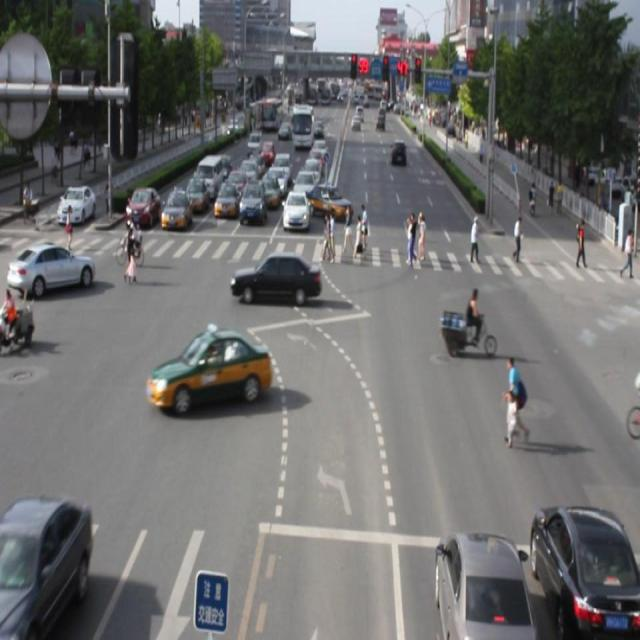car: (523, 495, 640, 640), (1, 493, 92, 640), (429, 524, 530, 640), (147, 331, 273, 414), (230, 250, 323, 308)
